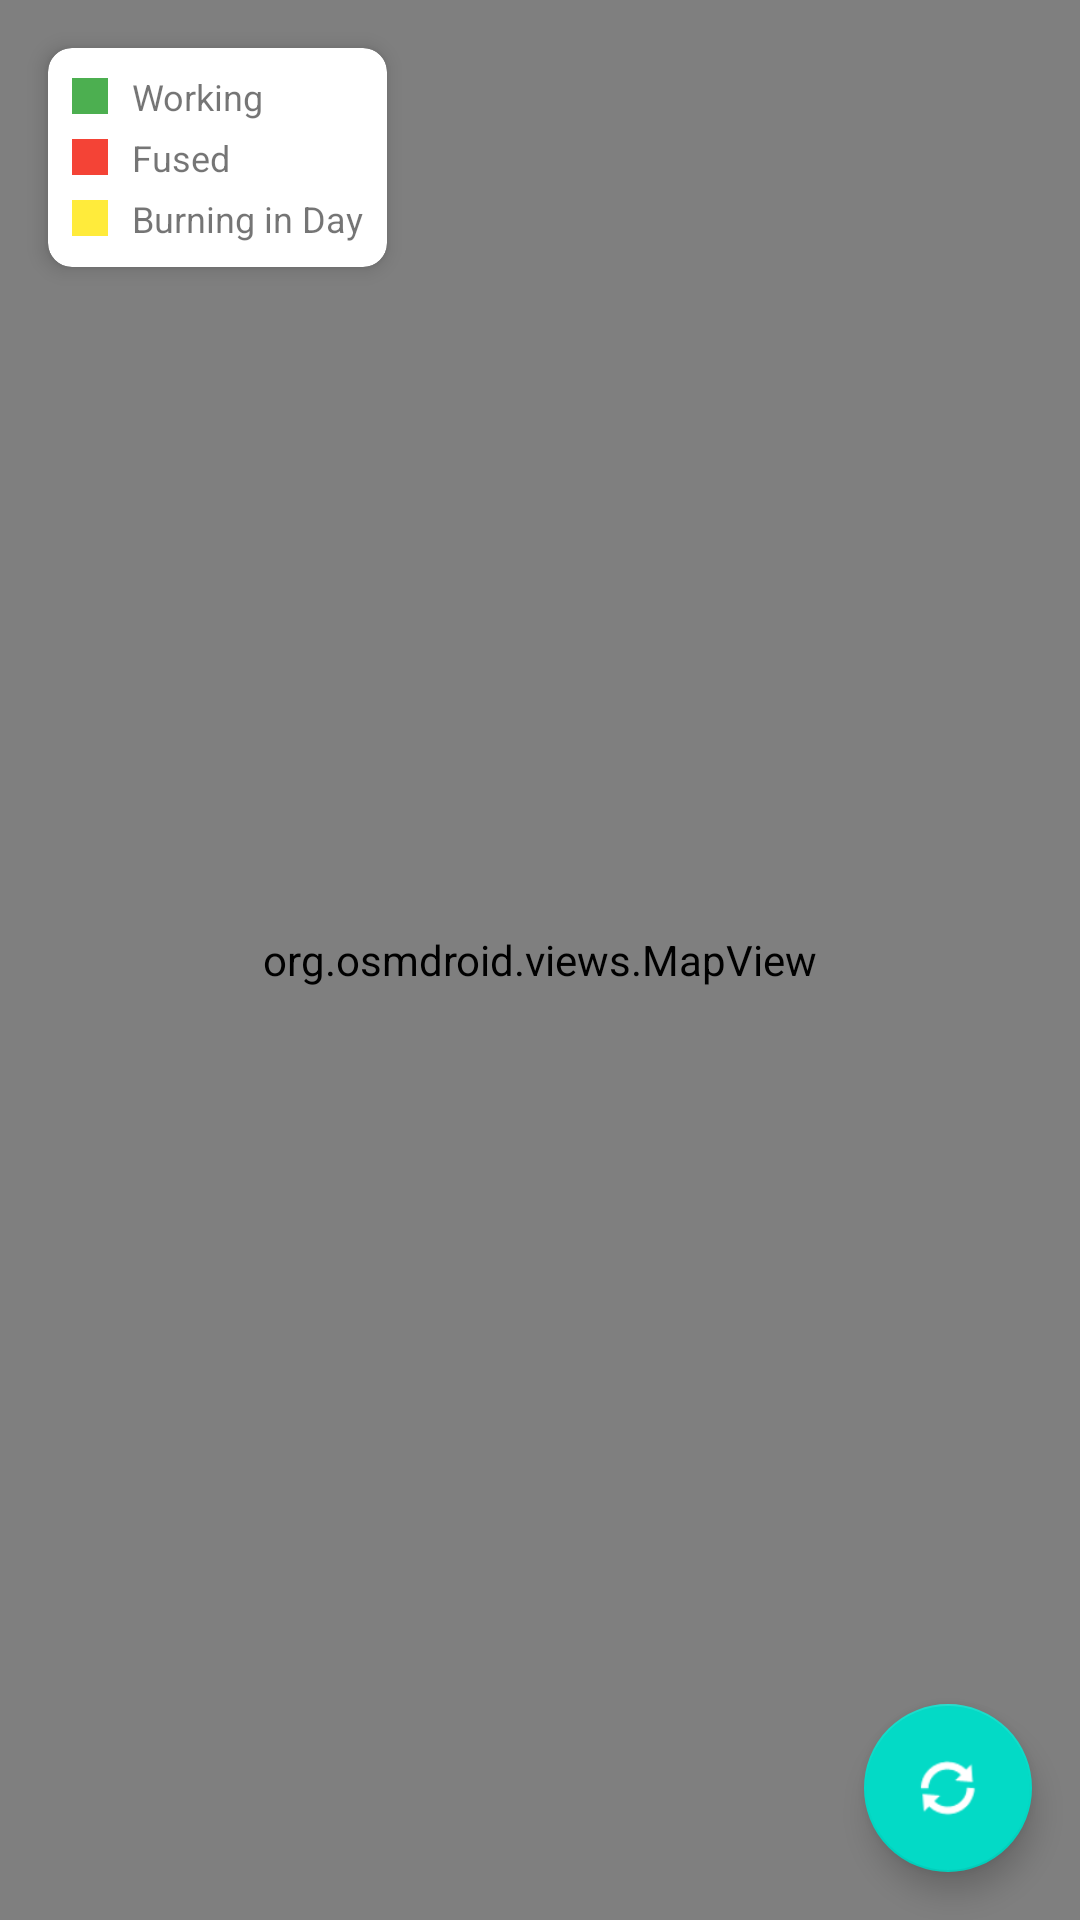

Icons on this 1080×1920 Android screen, each with the point to tap as point (x, y):
popup sync: point (948, 1788)
